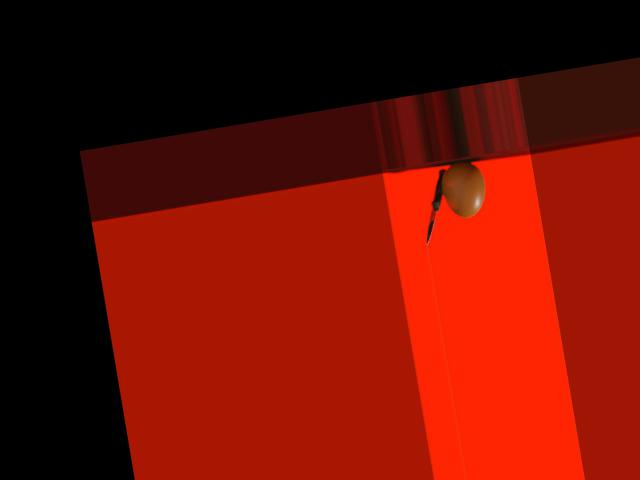egg: (438, 159, 489, 219)
